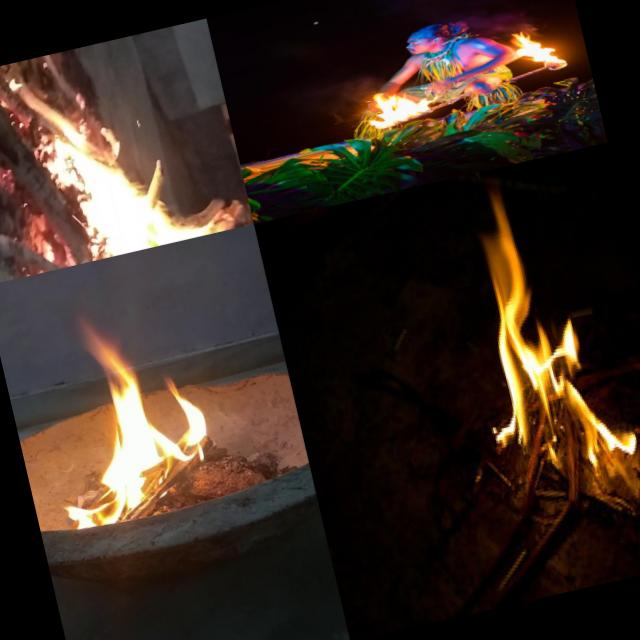fire: (436, 161, 638, 489), (32, 317, 230, 538), (359, 78, 445, 134), (514, 18, 567, 73)
smoke: (477, 6, 544, 52), (322, 72, 380, 125)
